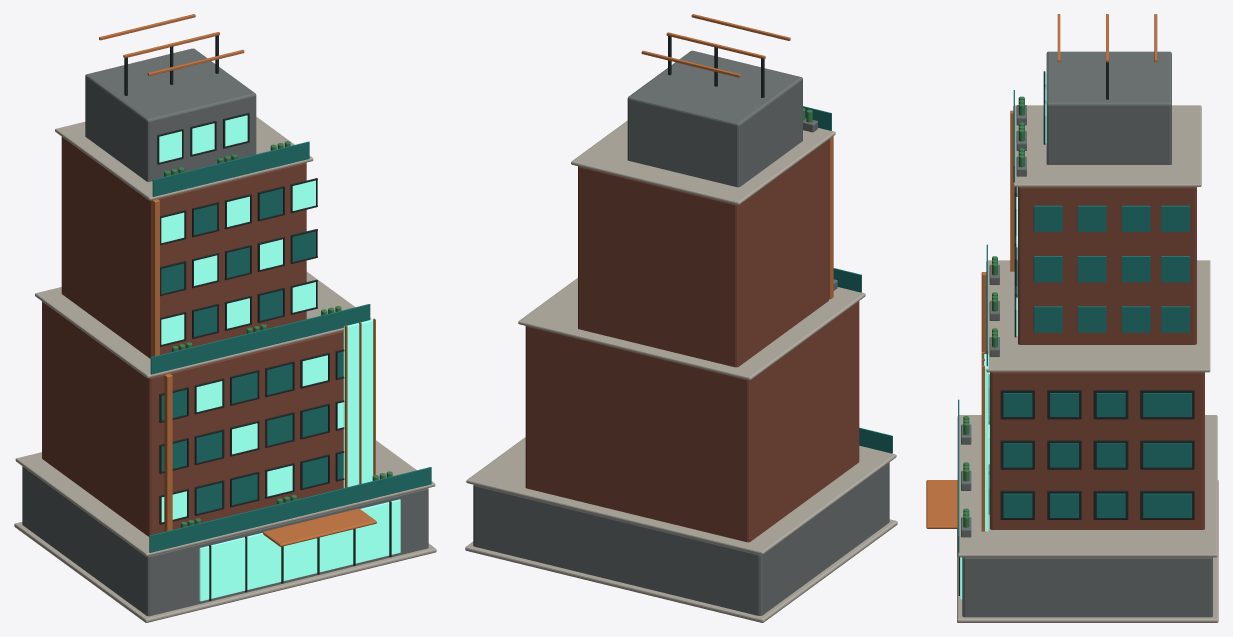
File: SM_SolCity_SteppedTower_01.fbx
The picture shows the model from 3 angles, left to right: view 1: azimuth 30°, elevation 25°; view 2: azimuth 150°, elevation 25°; view 3: azimuth 270°, elevation 25°; orthographic projection. The views are drawn at different scales.
Parts seen in each view (by area): view 1: Tower_Lower, Tower_Upper, Tower_Penthouse, Tower_Podium, Podium_Glass, Terrace_Rail_0, Terrace_Deck_0, Glass_Stair_Core, Terrace_Rail_1, Terrace_Deck_1, Foundation, Terrace_Deck_2 (+34 smaller); view 2: Tower_Lower, Tower_Upper, Tower_Podium, Tower_Penthouse, Terrace_Deck_0, Terrace_Deck_1, Terrace_Deck_2, Foundation, Upper_Copper_Spine, Terrace_Rail_0; view 3: Tower_Lower, Tower_Upper, Tower_Podium, Tower_Penthouse, Terrace_Deck_0, Terrace_Deck_1, Terrace_Deck_2, Foundation, Entry_Canopy, Upper_East_Glass_+0.25_15.80, Upper_East_Glass_+2.70_15.80, Upper_East_Glass_+0.25_18.90 (+29 smaller).
Part boxes in pixels (x1=…): Tower_Lower: x1=42, y1=301, x2=343, y2=536; Tower_Upper: x1=61, y1=137, x2=306, y2=358; Tower_Penthouse: x1=85, y1=48, x2=256, y2=181; Tower_Podium: x1=22, y1=466, x2=428, y2=616; Podium_Glass: x1=199, y1=499, x2=400, y2=601; Terrace_Rail_0: x1=149, y1=467, x2=431, y2=552; Terrace_Deck_0: x1=15, y1=440, x2=435, y2=556; Glass_Stair_Core: x1=343, y1=319, x2=373, y2=487; Terrace_Rail_1: x1=150, y1=304, x2=370, y2=374; Terrace_Deck_1: x1=35, y1=272, x2=370, y2=378; Foundation: x1=14, y1=522, x2=436, y2=622; Terrace_Deck_2: x1=55, y1=117, x2=313, y2=200; Tower_Lower: x1=525, y1=301, x2=859, y2=542; Tower_Upper: x1=578, y1=140, x2=828, y2=367; Tower_Podium: x1=473, y1=462, x2=889, y2=615; Tower_Penthouse: x1=627, y1=50, x2=802, y2=187; Terrace_Deck_0: x1=466, y1=437, x2=896, y2=554; Terrace_Deck_1: x1=518, y1=278, x2=865, y2=380; Terrace_Deck_2: x1=571, y1=120, x2=835, y2=205; Foundation: x1=465, y1=519, x2=897, y2=622; Upper_Copper_Spine: x1=829, y1=136, x2=833, y2=299; Terrace_Rail_0: x1=859, y1=427, x2=892, y2=453; Tower_Lower: x1=990, y1=372, x2=1204, y2=529; Tower_Upper: x1=1018, y1=187, x2=1196, y2=344; Tower_Podium: x1=962, y1=557, x2=1212, y2=617; Tower_Penthouse: x1=1046, y1=51, x2=1171, y2=164; Terrace_Deck_0: x1=957, y1=415, x2=1217, y2=557; Terrace_Deck_1: x1=986, y1=260, x2=1210, y2=372; Terrace_Deck_2: x1=1013, y1=105, x2=1201, y2=186; Foundation: x1=957, y1=480, x2=1218, y2=622; Entry_Canopy: x1=926, y1=480, x2=957, y2=528; Upper_East_Glass_+0.25_15.80: x1=1077, y1=306, x2=1106, y2=332; Upper_East_Glass_+2.70_15.80: x1=1121, y1=306, x2=1150, y2=332; Upper_East_Glass_+0.25_18.90: x1=1077, y1=256, x2=1106, y2=282.
Size of the model in its own units: 18.6 by 16.3 by 30.48.
